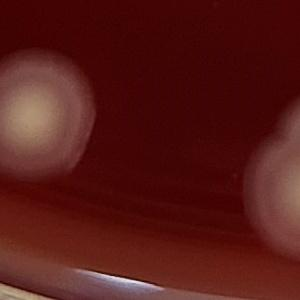colony: (0, 42, 104, 197), (233, 88, 300, 272)
